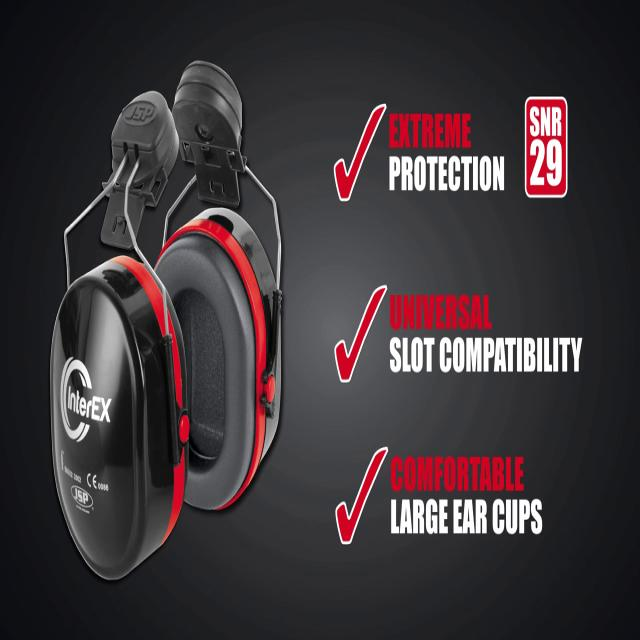earmuff: (49, 248, 192, 572), (151, 199, 287, 523)
